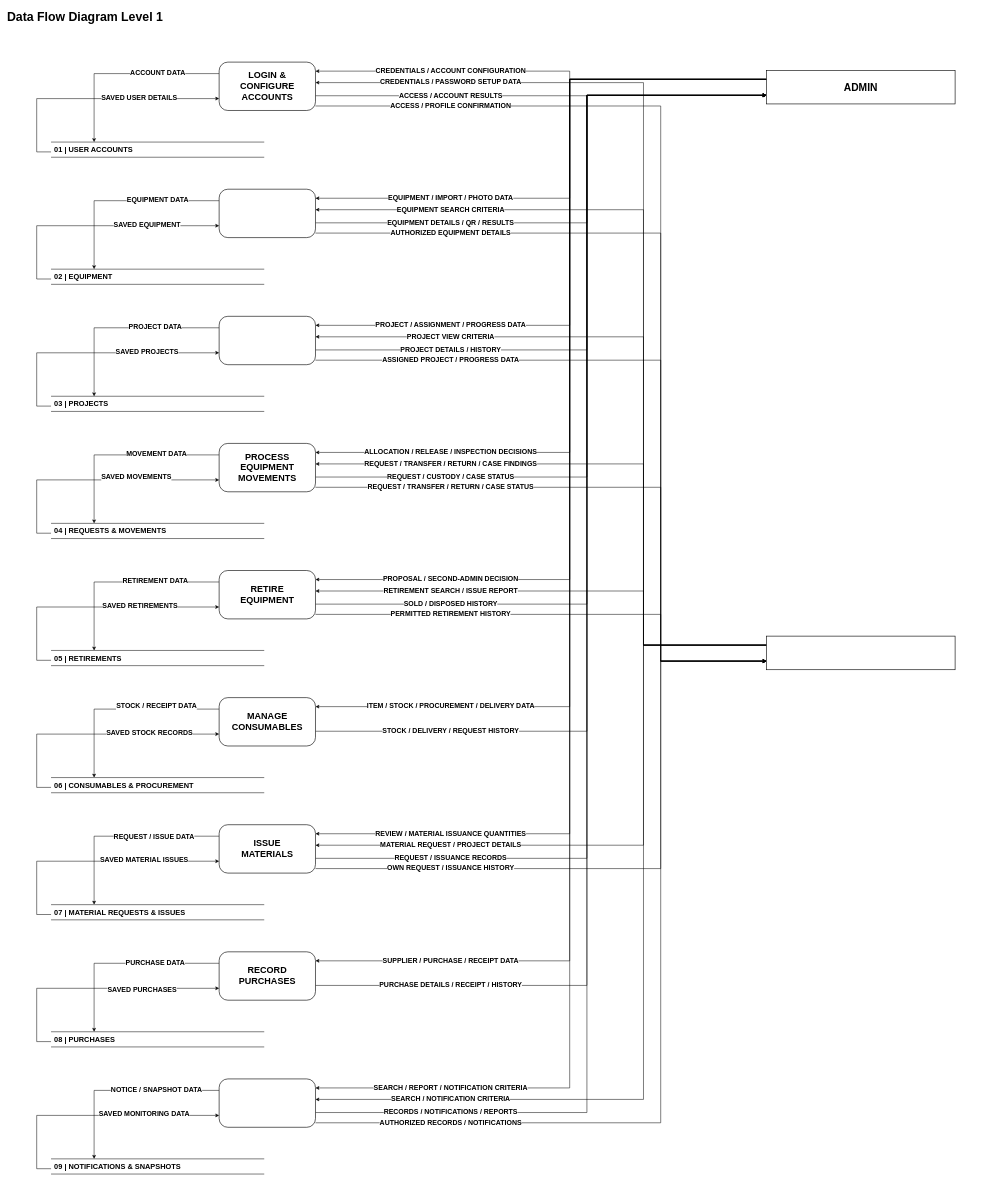
Some shapes in this 983 by 1182 pixel diagram are drawn without their labels. The shapes that lost their labels are listed below. From the top down, each one's centre as x and y in pixels, then its label:
the point at 267,213: REGISTER EQUIPMENT
the point at 267,340: MANAGE PROJECTS
the point at 860,653: ENGINEERS/ARCHITECTS
the point at 267,1102: SHOW REPORTS
